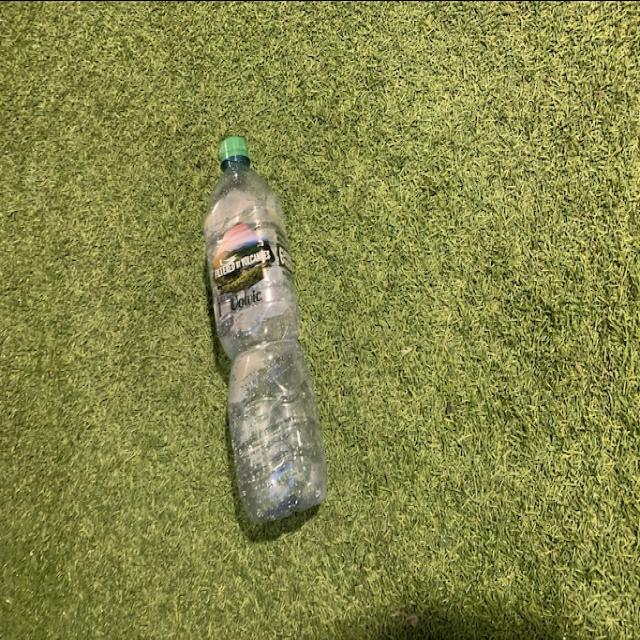PET: (203, 134, 329, 528)
